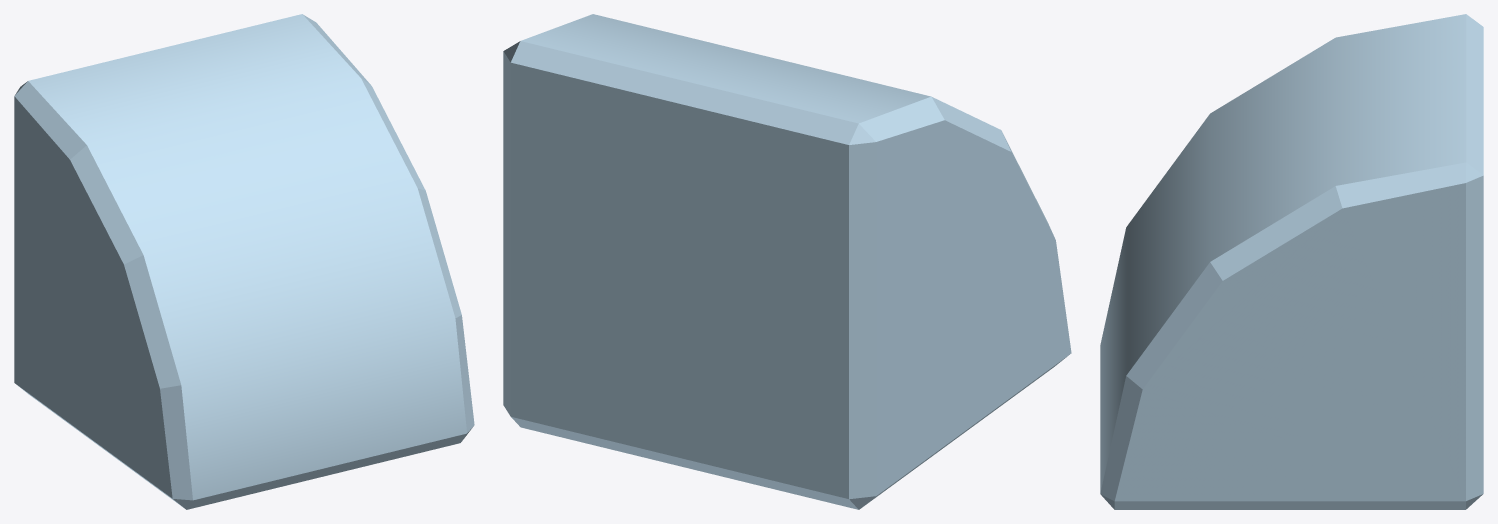
File: R4B_RoundEdge_LOD1.glb
The picture shows the model from 3 angles, left to right: view 1: azimuth 30°, elevation 25°; view 2: azimuth 150°, elevation 25°; view 3: azimuth 270°, elevation 25°; orthographic projection. The views are drawn at different scales.
Parts seen in each view (by area): view 1: R4B_RoundEdge_LOD1; view 2: R4B_RoundEdge_LOD1; view 3: R4B_RoundEdge_LOD1.
Boxes of the visible parts, x1,y1,x2,y2 form: R4B_RoundEdge_LOD1: [14, 14, 474, 509]; R4B_RoundEdge_LOD1: [503, 14, 1071, 509]; R4B_RoundEdge_LOD1: [1100, 14, 1483, 509].
Bounding box in the file's own units: 0.52 × 0.5153 × 0.5153.
